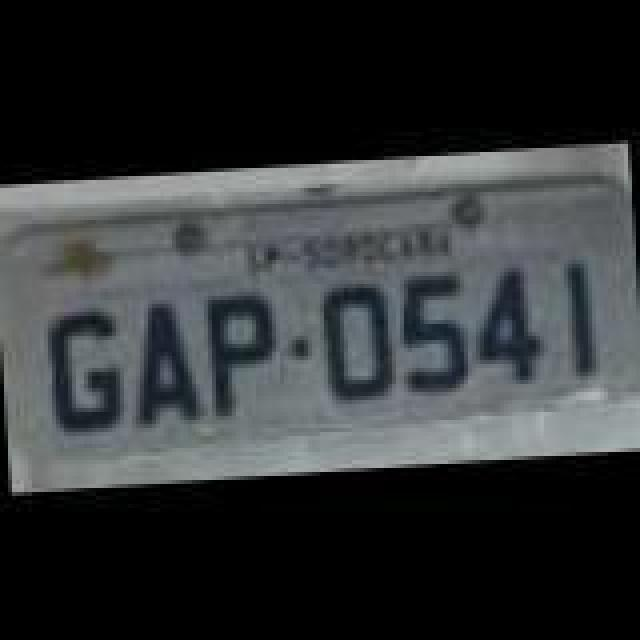1: (564, 258, 604, 374)
4: (476, 260, 548, 388)
5: (392, 264, 472, 392)
A: (126, 302, 210, 434)
G: (46, 306, 130, 438)
O: (314, 282, 398, 406)
P: (196, 294, 284, 426)
